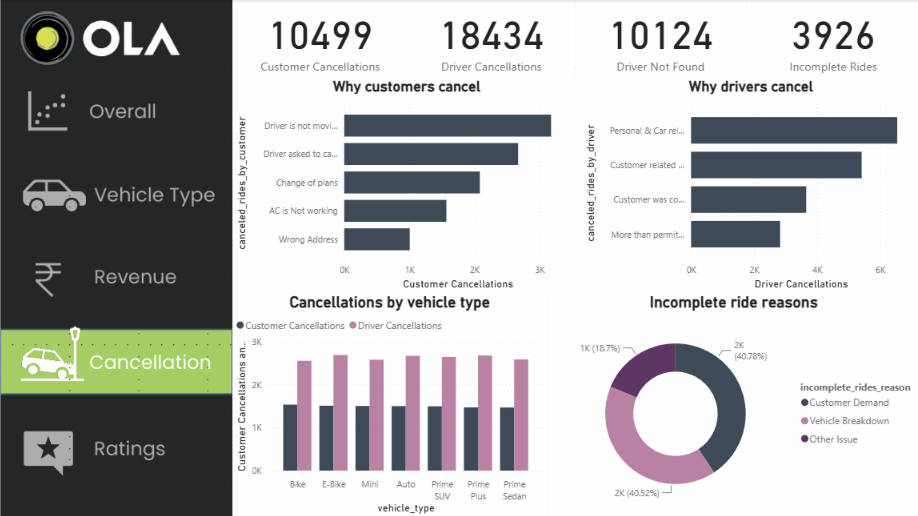

Layout of this report page (visuals, bound fields, positions):
{"tool":"powerbi","page":{"name":"Cancellation","canvas":[1280,720],"ordinal":3},"visuals":[{"type":"card","fields":{"Values":["ola_rides.Customer Cancellations"]},"box":[323.3,0,244.9,108.6],"z":0},{"type":"card","fields":{"Values":["ola_rides.Driver Cancellations"]},"box":[568.2,0,231.6,108.6],"z":1000},{"type":"card","fields":{"Values":["ola_rides.Driver Not Found"]},"box":[799.9,0,237.7,108.6],"z":2000},{"type":"card","fields":{"Values":["ola_rides.Incomplete Rides"]},"box":[1037.5,0,242.5,108.6],"z":3000},{"type":"clusteredBarChart","title":"Why customers cancel","fields":{"Category":["ola_rides.canceled_rides_by_customer"],"Y":["ola_rides.Customer Cancellations"]},"box":[323.3,108.6,485,300.4],"z":4000},{"type":"clusteredBarChart","title":"Why drivers cancel","fields":{"Category":["ola_rides.canceled_rides_by_driver"],"Y":["ola_rides.Driver Cancellations"]},"box":[808.3,108.6,471.7,300.4],"z":5000},{"type":"donutChart","title":"Incomplete ride reasons","fields":{"Category":["ola_rides.incomplete_rides_reason"],"Y":["ola_rides.Incomplete Rides"]},"box":[761.3,409,518.8,311.3],"z":6000},{"type":"clusteredColumnChart","title":"Cancellations by vehicle type","fields":{"Category":["ola_rides.vehicle_type"],"Y":["ola_rides.Customer Cancellations","ola_rides.Driver Cancellations"]},"box":[323.3,409,437.9,311.3],"z":7000},{"type":"actionButton","box":[0,108.5,324.5,89.2],"z":7001},{"type":"actionButton","box":[1.4,222.6,324.5,89.2],"z":7002},{"type":"actionButton","box":[0,345,324.5,89.2],"z":7003},{"type":"actionButton","box":[0,581.6,324.5,89.2],"z":7004}]}

Visuals, with their boxes on the page's 1280x720 design canvas (x1, y1, x2, y2). These are canvas units, not pixel positions in the 918x516 screenshot, which may show the page scaled, cropped or inside an application window:
card - ola_rides.Customer Cancellations: (left=323, top=0, right=568, bottom=109)
card - ola_rides.Driver Cancellations: (left=568, top=0, right=800, bottom=109)
card - ola_rides.Driver Not Found: (left=800, top=0, right=1038, bottom=109)
card - ola_rides.Incomplete Rides: (left=1038, top=0, right=1280, bottom=109)
"Why customers cancel" clusteredBarChart: (left=323, top=109, right=808, bottom=409)
"Why drivers cancel" clusteredBarChart: (left=808, top=109, right=1280, bottom=409)
"Incomplete ride reasons" donutChart: (left=761, top=409, right=1280, bottom=720)
"Cancellations by vehicle type" clusteredColumnChart: (left=323, top=409, right=761, bottom=720)
actionButton: (left=0, top=108, right=324, bottom=198)
actionButton: (left=1, top=223, right=326, bottom=312)
actionButton: (left=0, top=345, right=324, bottom=434)
actionButton: (left=0, top=582, right=324, bottom=671)
